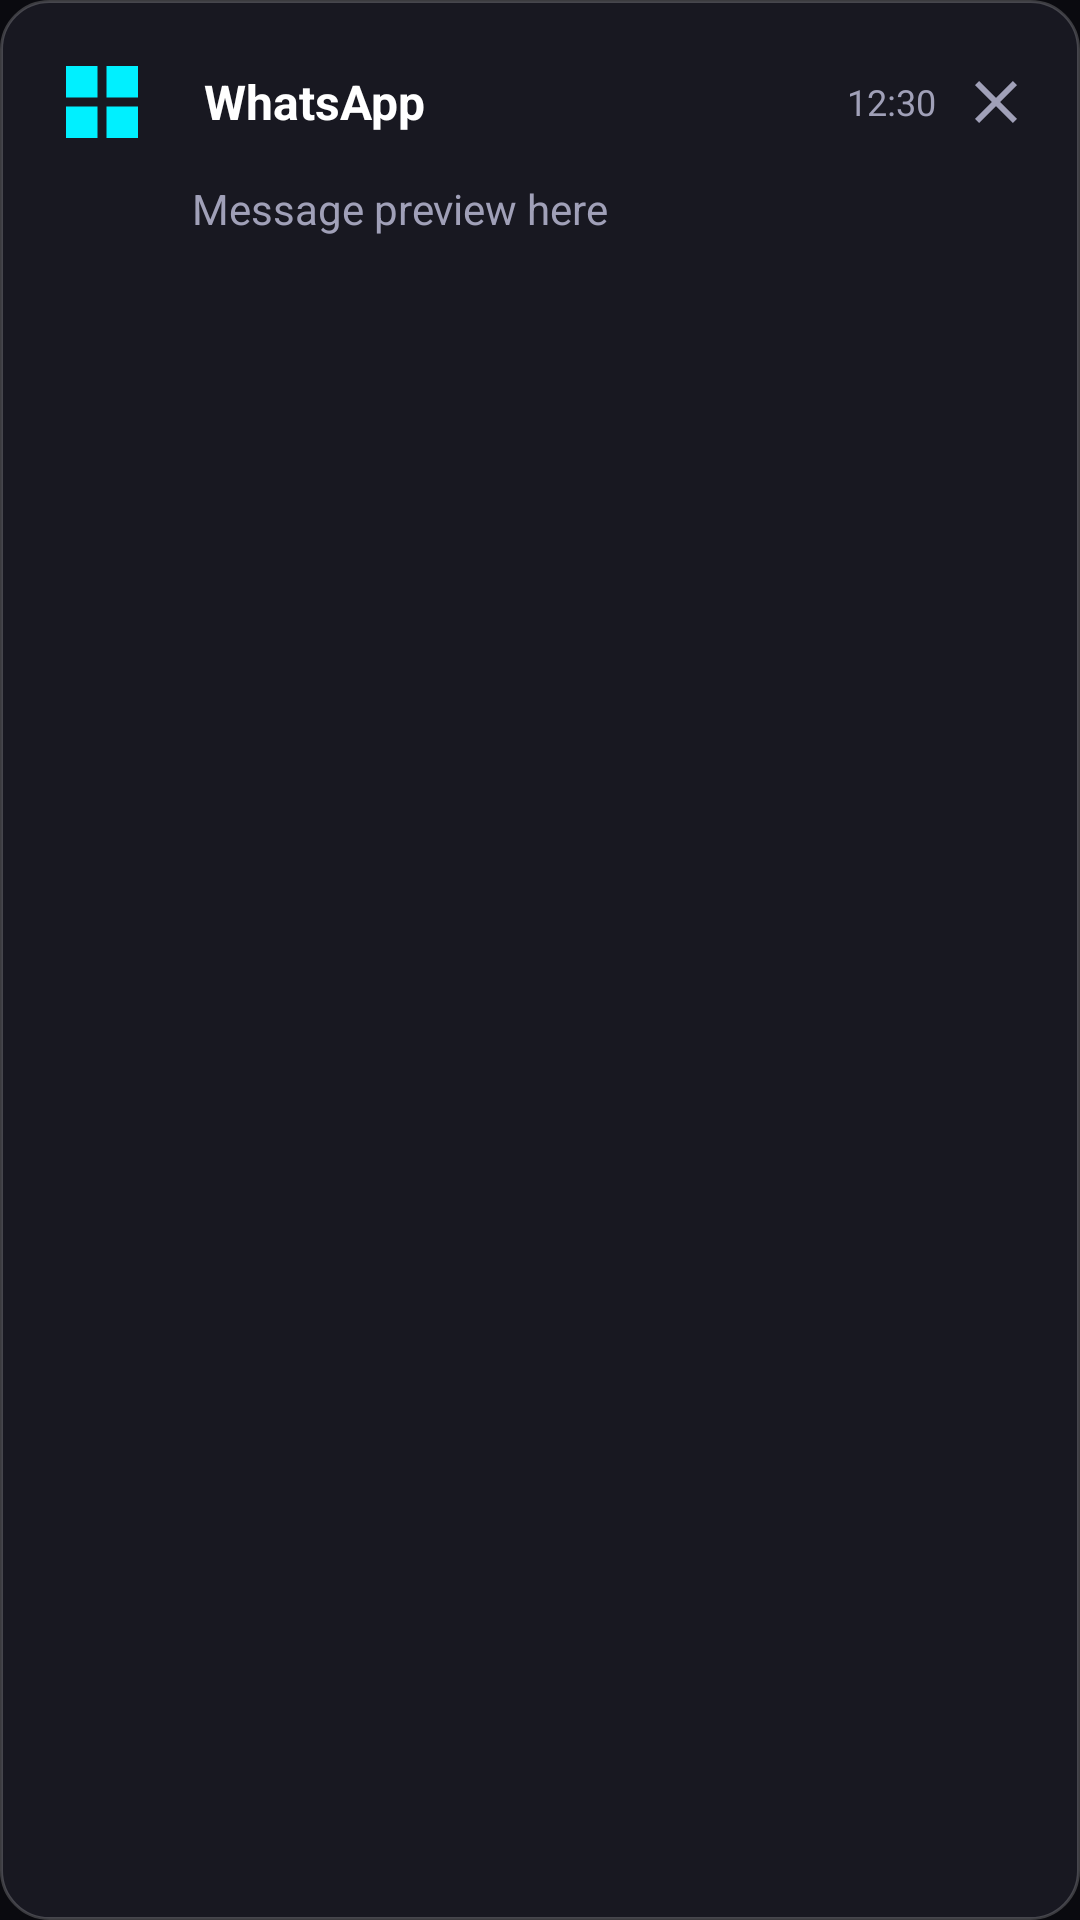

Screen size 1080w x 1920h. Icon name, then its box in pixels as [x1=x1, y1=y1, x2=x2, y2=y2]:
Dismiss: [x1=975, y1=81, x2=1017, y2=123]
